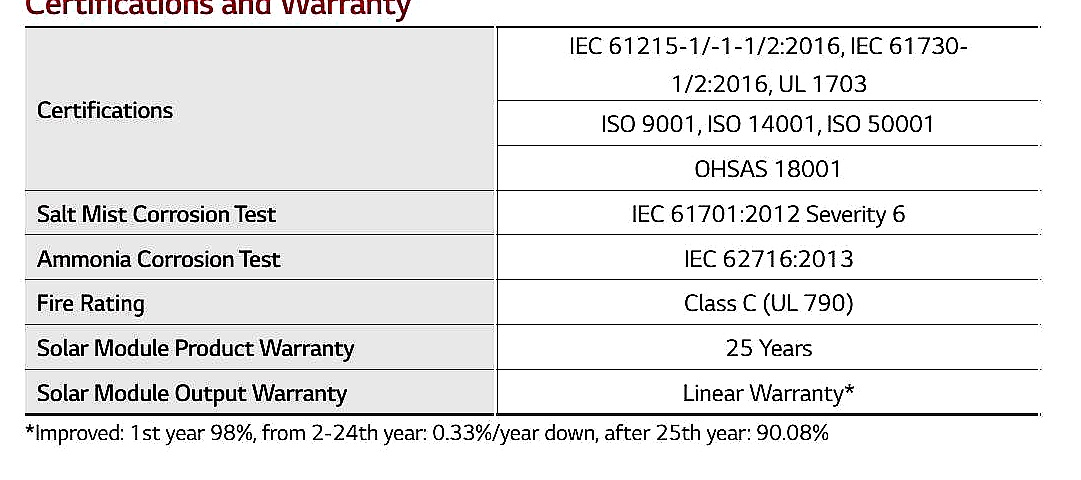table: (10, 20, 1056, 454)
table column: (498, 28, 1049, 447), (15, 24, 498, 444)
table row: (14, 26, 1047, 101), (19, 370, 1046, 415), (18, 280, 1046, 324), (17, 192, 1051, 235), (19, 326, 1046, 369), (11, 103, 1049, 145), (16, 236, 1049, 278), (13, 149, 1051, 190), (19, 415, 1053, 446)
table row header: (16, 26, 498, 444)
table spanning cell: (17, 24, 495, 191)
